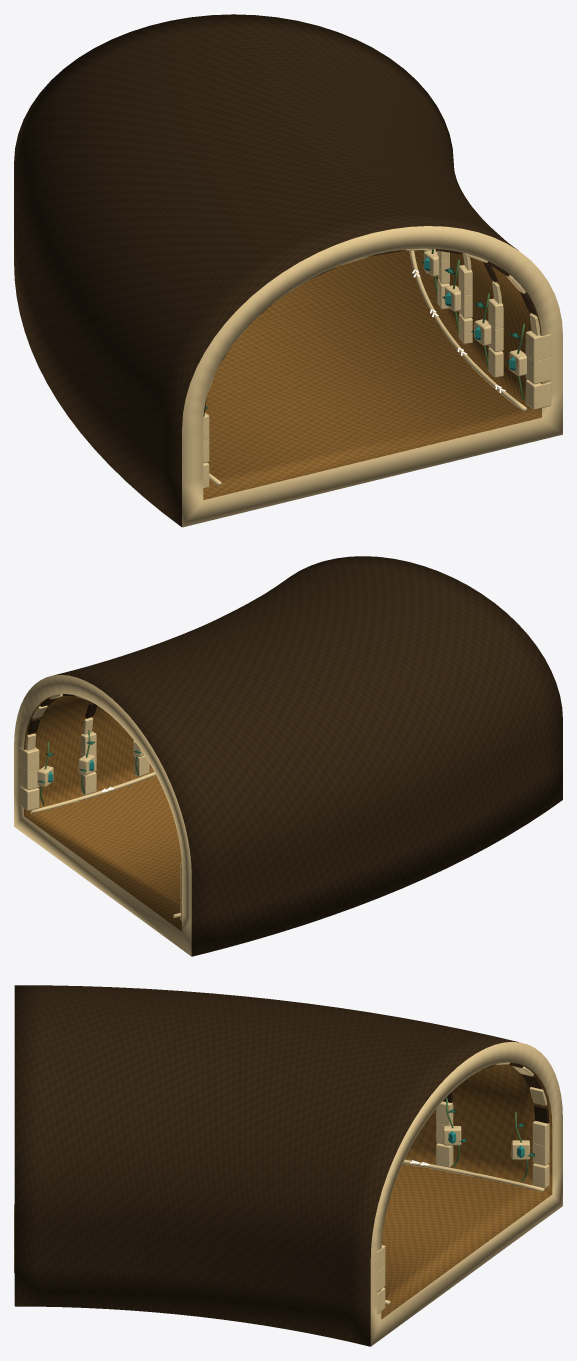
Rendered from curve_right_30.glb.
3 views of the same model, one above another, from view 1: azimuth 30°, elevation 25°; view 2: azimuth 150°, elevation 25°; view 3: azimuth 270°, elevation 25° (orthographic). The views are drawn at different scales.
Parts seen in each view (by area): view 1: TunnelGeometry; view 2: TunnelGeometry; view 3: TunnelGeometry.
Part boxes in pixels (left/top/right/bottom): TunnelGeometry: left=14, top=14, right=562, bottom=527; TunnelGeometry: left=14, top=556, right=562, bottom=956; TunnelGeometry: left=14, top=985, right=562, bottom=1346.
Size of the model in its own units: 19.1 by 9.52 by 21.85.
Materials: 7 (2 with a texture image).
